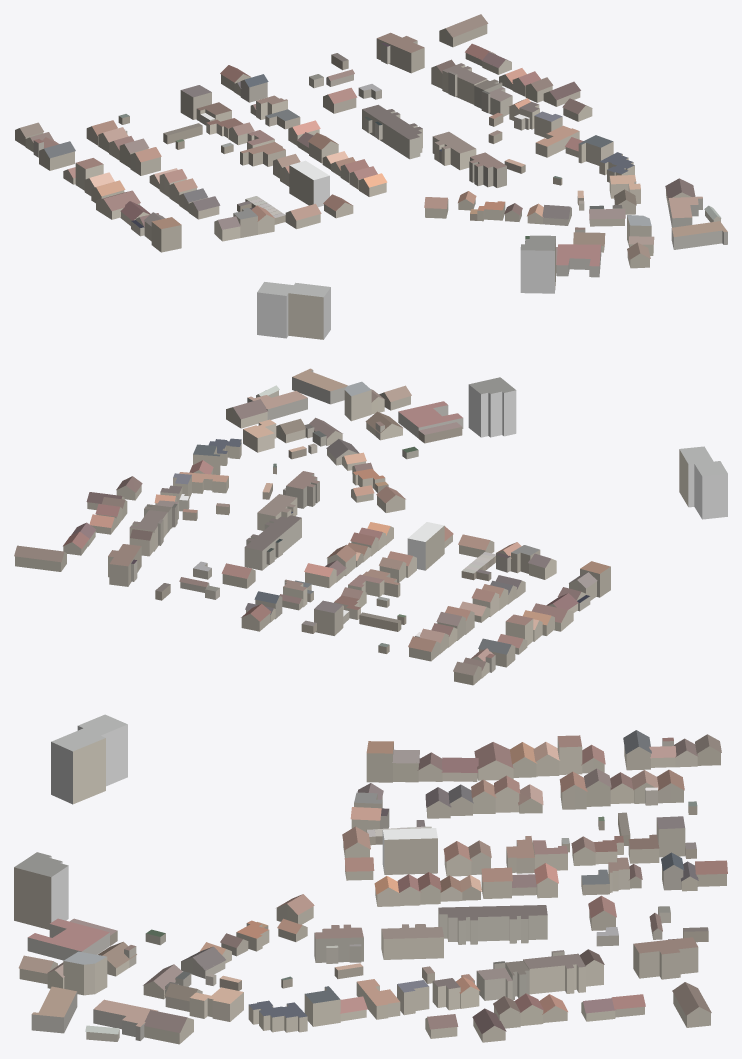
3 renders of one model, top to bottom at view 1: azimuth 30°, elevation 25°; view 2: azimuth 150°, elevation 25°; view 3: azimuth 270°, elevation 25°, orthographic. The views are drawn at different scales.
Visible parts, largest first — view 1: tuile; view 2: tuile; view 3: tuile.
Part boxes in pixels (x1,y1,x2,y2): tuile: (15,14,727,339); tuile: (14,368,727,685); tuile: (14,714,727,1044).
Size of the model in its own units: 252 by 23.91 by 263.
